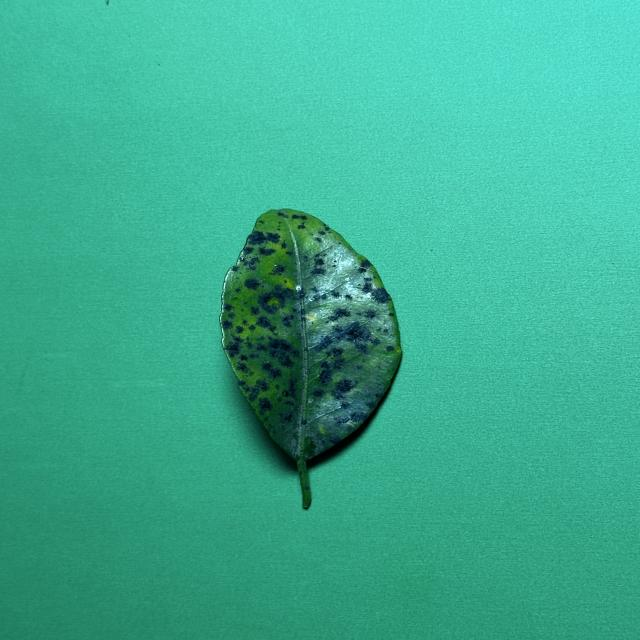sooty_mold: (220, 209, 401, 508)
